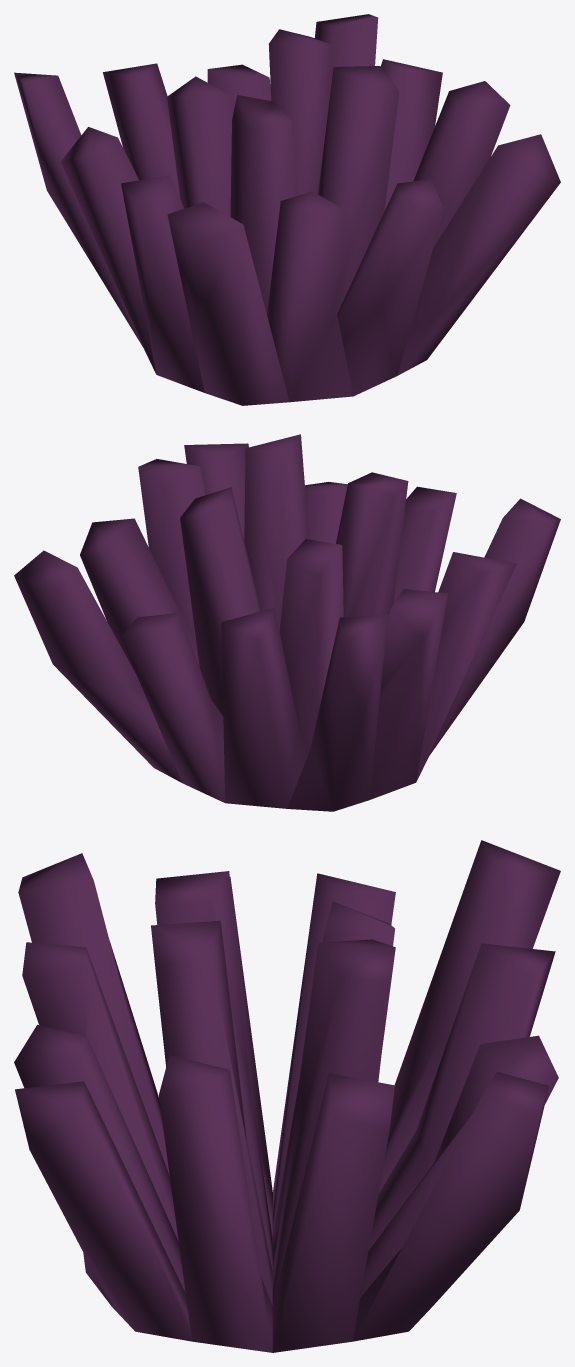
Rendered from seaGrassCylinder2Pink.fbx.
3 renders of one model, top to bottom at view 1: azimuth 30°, elevation 25°; view 2: azimuth 150°, elevation 25°; view 3: azimuth 270°, elevation 25°, orthographic. The views are drawn at different scales.
Parts seen in each view (by area): view 1: seaGrassCylinder2PinkObject; view 2: seaGrassCylinder2PinkObject; view 3: seaGrassCylinder2PinkObject.
Part boxes in pixels (left/top/right/bottom): seaGrassCylinder2PinkObject: left=14, top=14, right=560, bottom=405; seaGrassCylinder2PinkObject: left=14, top=434, right=560, bottom=811; seaGrassCylinder2PinkObject: left=14, top=840, right=560, bottom=1352.
Bounding box in the file's own units: 0.3512 × 0.2546 × 0.3387.
